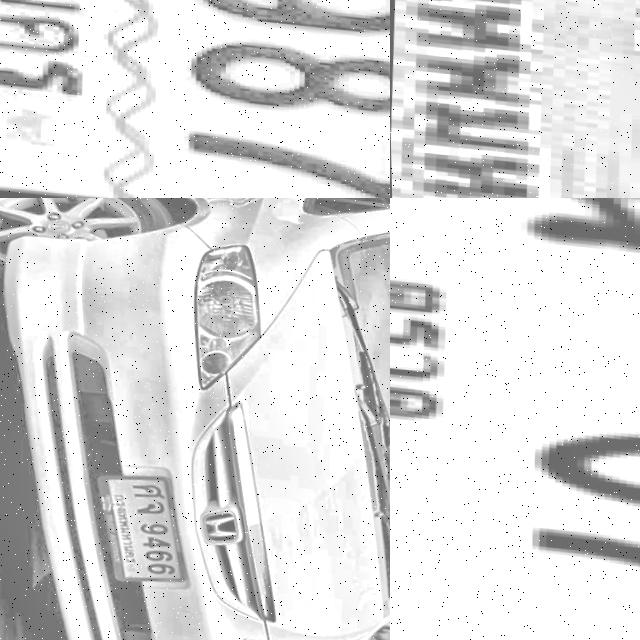license-plate: (390, 198, 640, 640), (0, 0, 390, 198), (390, 0, 640, 198), (84, 463, 194, 587)
